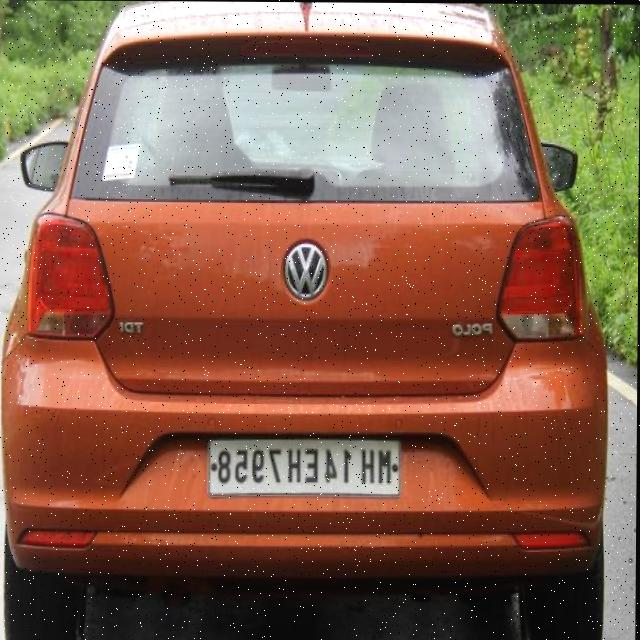plate: (210, 438, 397, 495)
